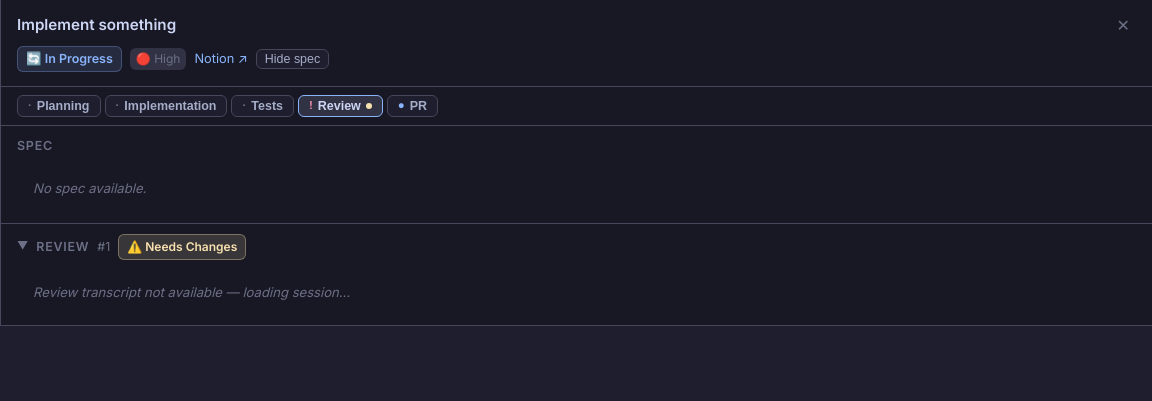
Test: TaskDetail › Approve button › renders when PR is open, verdict not approved, not dirty
Click the tab with test id "stage-chip-pr".
click(412, 106)  # box [387,95,438,118]
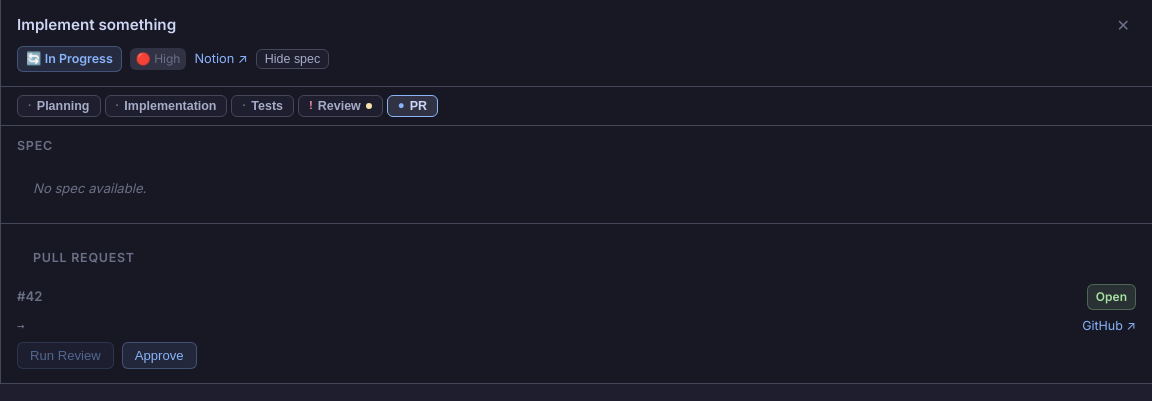
Check: the button "Approve" is shown, box [122,342,196,368]
